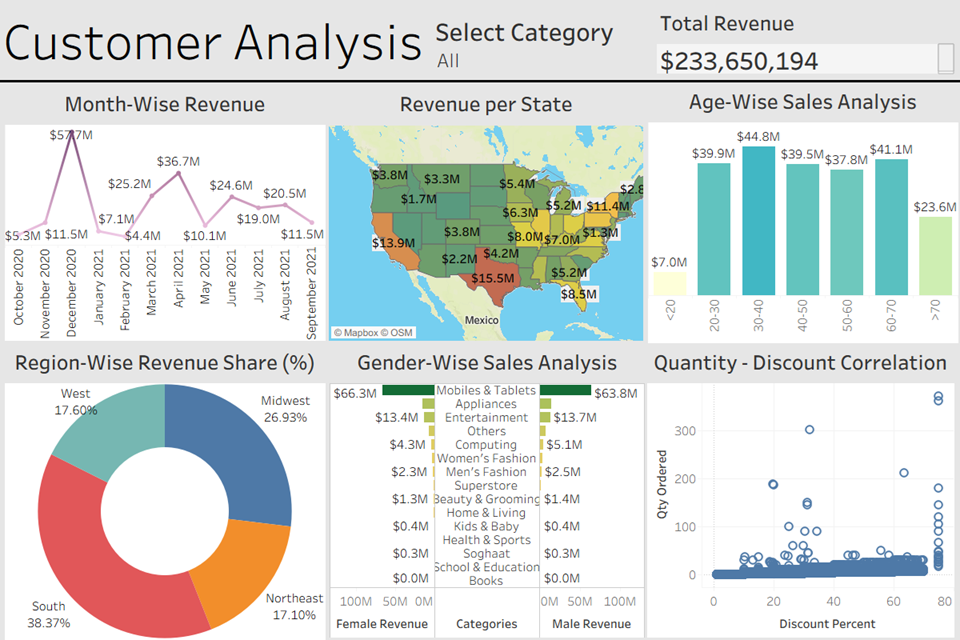

Layout of this report page (visuals, bound fields, positions):
{"tool":"tableau","page":{"name":"Dashboard","canvas":[1200,800],"ordinal":0},"visuals":[{"type":"worksheet","title":"Total Revenue","mark":"Automatic","box":[821,5,372,87]},{"type":"text","box":[0,10,542,80]},{"type":"filter","title":"Gender-Wise Sales Analysis","param":"[federated.08id44s1q9ji7419wuenw0d7pesn].[none:category:nk]","box":[544,17,269,73]},{"type":"blank","box":[0,100,1200,3]},{"type":"worksheet","title":"Age-Wise Sales Analysis","mark":"Automatic","rows":["total"],"cols":["Age (bin)"],"box":[810,103,387,326]},{"type":"worksheet","title":"Month-Wise Revenue","mark":"Automatic","rows":["total"],"cols":["month"],"box":[6,106,400,320]},{"type":"worksheet","title":"Revenue per State","mark":"Automatic","box":[410,106,395,321]},{"type":"worksheet","title":"Region-Wise Revenue Share (%)","mark":"Pie","rows":["Calculation_1176267089702912","Calculation_1176267089702912"],"box":[6,429,400,370]},{"type":"worksheet","title":"Gender-Wise Sales Analysis","mark":"Automatic","rows":["category"],"cols":["Calculation_1176267091279873","Calculation_1176267089702912","Calculation_1176267091632130"],"box":[412,429,394,369]},{"type":"worksheet","title":"Quantity - Discount Correlation","mark":"Automatic","rows":["qty_ordered"],"cols":["Discount_Percent"],"box":[809,429,383,368]},{"type":"legend","title":"Region-Wise Revenue Share (%)","param":"[federated.08id44s1q9ji7419wuenw0d7pesn].[sum:total:qk]","box":[421,548,328,43]}]}

Visuals, with their boxes in screenshot pixels (x1, y1, x2, y2), scaled from the page's 1200x800 canvas onto the 960x640 screenshot:
"Total Revenue" worksheet: {"left": 657, "top": 4, "right": 954, "bottom": 74}
text: {"left": 0, "top": 8, "right": 434, "bottom": 72}
"Gender-Wise Sales Analysis" filter: {"left": 435, "top": 14, "right": 650, "bottom": 72}
blank: {"left": 0, "top": 80, "right": 959, "bottom": 82}
"Age-Wise Sales Analysis" worksheet: {"left": 648, "top": 82, "right": 958, "bottom": 343}
"Month-Wise Revenue" worksheet: {"left": 5, "top": 85, "right": 325, "bottom": 341}
"Revenue per State" worksheet: {"left": 328, "top": 85, "right": 644, "bottom": 342}
"Region-Wise Revenue Share (%)" worksheet (Pie marks): {"left": 5, "top": 343, "right": 325, "bottom": 639}
"Gender-Wise Sales Analysis" worksheet: {"left": 330, "top": 343, "right": 645, "bottom": 638}
"Quantity - Discount Correlation" worksheet: {"left": 647, "top": 343, "right": 954, "bottom": 638}
"Region-Wise Revenue Share (%)" legend: {"left": 337, "top": 438, "right": 599, "bottom": 473}
